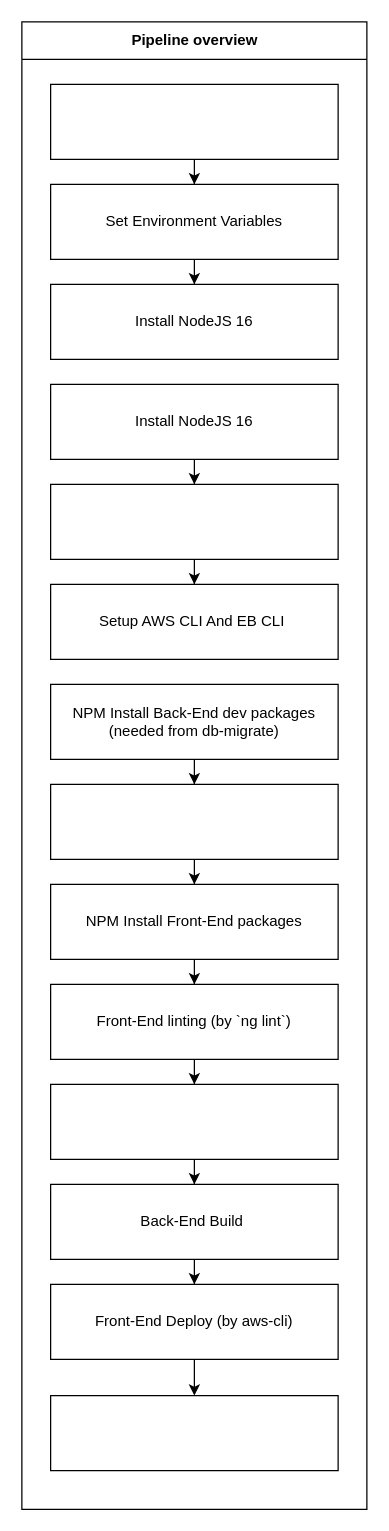
Some shapes in this 389 by 1531 pixel diagram are drawn without their labels. The shapes that lost their labels are listed below. From the top down, each one's centre as x and y in pixels, then its label:
(x=193, y=121): Spin Up Environment
(x=193, y=521): Install AWS CLI and EB CLI
(x=193, y=821): NPM Install Back-End packages
(x=193, y=1121): Front-End Build (by `ng build`)
(x=193, y=1432): Back-End Deploy (by `eb deploy`)
